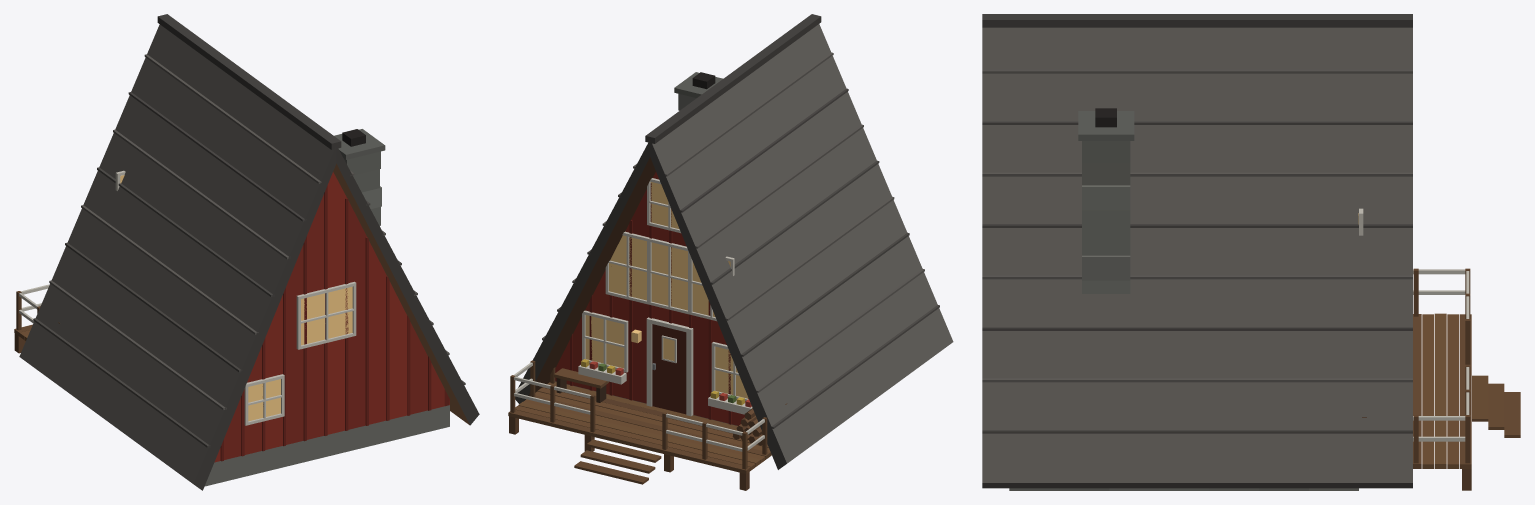
File: aframe_cabin.glb
The picture shows the model from 3 angles, left to right: view 1: azimuth 30°, elevation 25°; view 2: azimuth 150°, elevation 25°; view 3: azimuth 270°, elevation 25°; orthographic projection. The views are drawn at different scales.
Visible parts, largest first — view 1: aframe_cabin; view 2: aframe_cabin; view 3: aframe_cabin.
Boxes of the visible parts, <box> form: aframe_cabin: <box>14,14,479,490</box>; aframe_cabin: <box>508,14,953,490</box>; aframe_cabin: <box>982,14,1520,490</box>.
Size of the model in its own units: 7.6 by 8.19 by 10.
